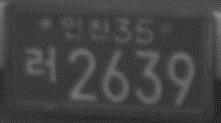2: (66, 47, 97, 102)
3: (134, 49, 163, 104), (112, 17, 131, 42)
5: (134, 18, 154, 44)
6: (102, 49, 130, 103)
9: (166, 52, 195, 105)
러: (23, 44, 58, 83)
인천_O: (61, 15, 110, 41)
